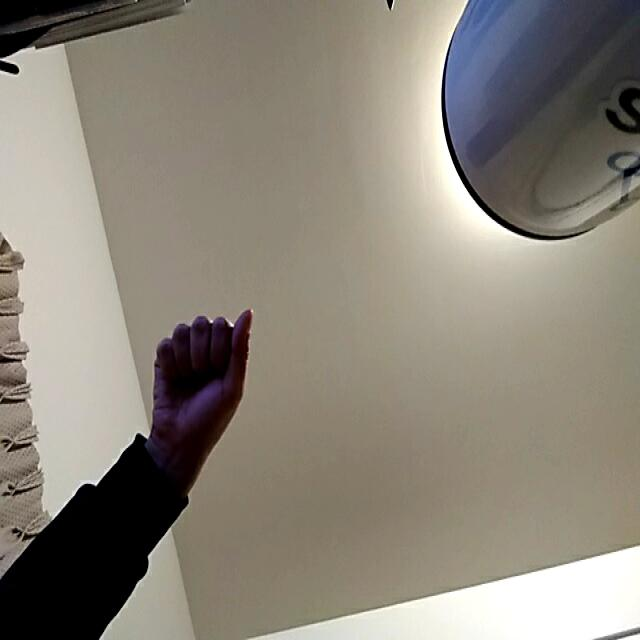A: (135, 276, 293, 495)
